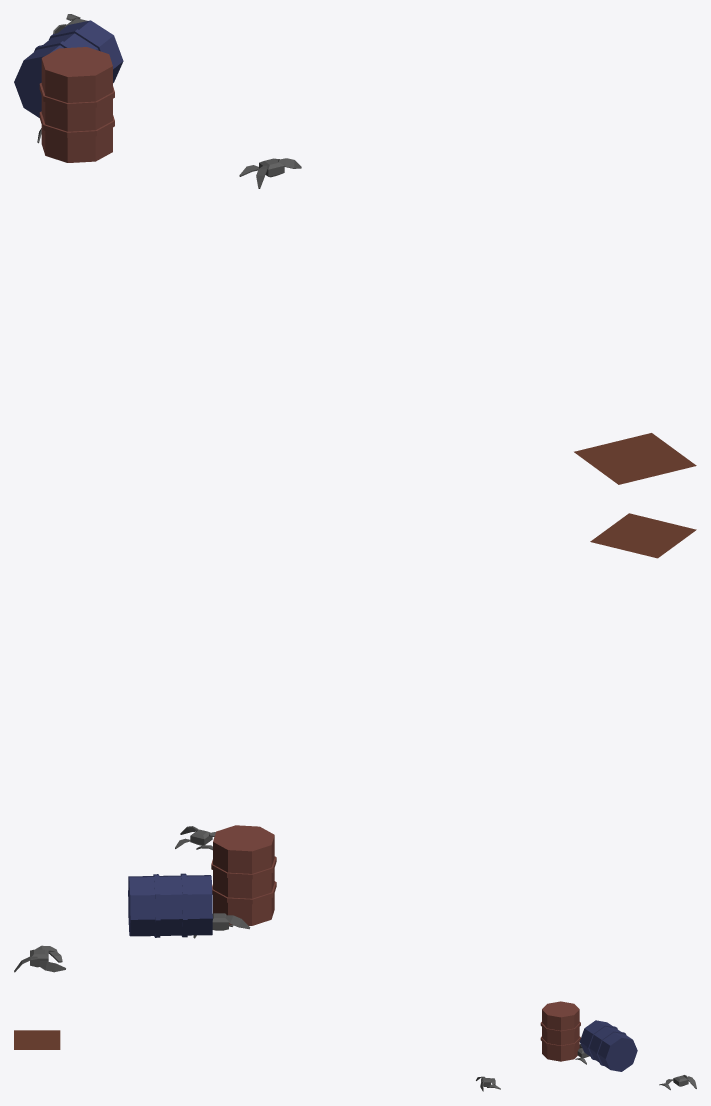
Rendered from openable_box_double.glb.
The picture shows the model from 3 angles, top to bottom: view 1: azimuth 30°, elevation 25°; view 2: azimuth 150°, elevation 25°; view 3: azimuth 270°, elevation 25°; orthographic projection. The views are drawn at different scales.
Visible parts, largest first — view 1: Cylinder, dirt.001, Cylinder.001, Cube.004; view 2: Cylinder, Cylinder.001, dirt.001, Cube.014; view 3: Cylinder, Cylinder.001, dirt.001, Cube.014, Cube.004.
Boxes of the visible parts, bbox=[...] form: Cylinder: bbox=[39, 47, 114, 162]; dirt.001: bbox=[574, 433, 696, 484]; Cylinder.001: bbox=[14, 20, 123, 117]; Cube.004: bbox=[239, 158, 301, 188]; Cylinder: bbox=[211, 825, 276, 925]; Cylinder.001: bbox=[128, 873, 212, 937]; dirt.001: bbox=[590, 513, 696, 558]; Cube.014: bbox=[14, 945, 65, 972]; Cylinder: bbox=[540, 1001, 580, 1061]; Cylinder.001: bbox=[579, 1020, 637, 1071]; dirt.001: bbox=[14, 1030, 60, 1049]; Cube.014: bbox=[659, 1075, 696, 1090]; Cube.004: bbox=[476, 1076, 500, 1091].
Bounding box in the file's own units: 4.04 × 1.94 × 25.48.
